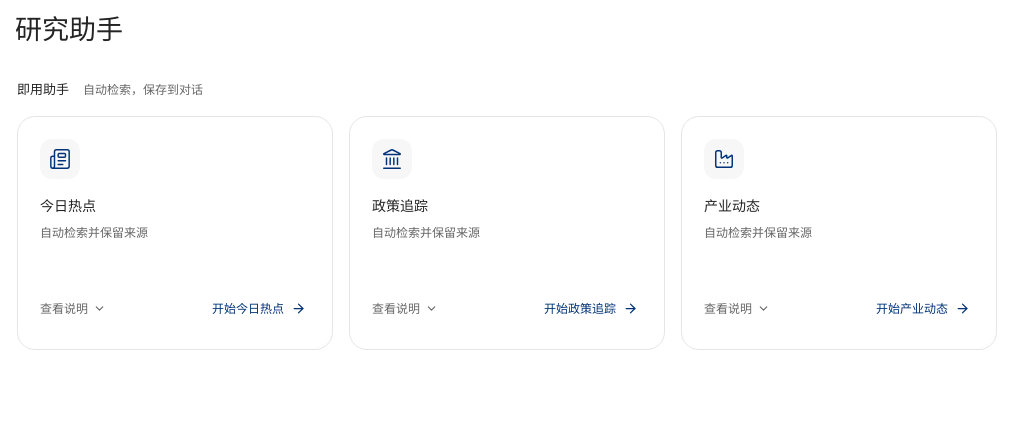
Test: keeps the server launch explanation available without starting a task
Expected: the text "点击后直接检索，结果保存在研究对话。" is not shown
Step 1. Click the 1st heading "查看说明" → (73, 308), box [40,301,106,316]
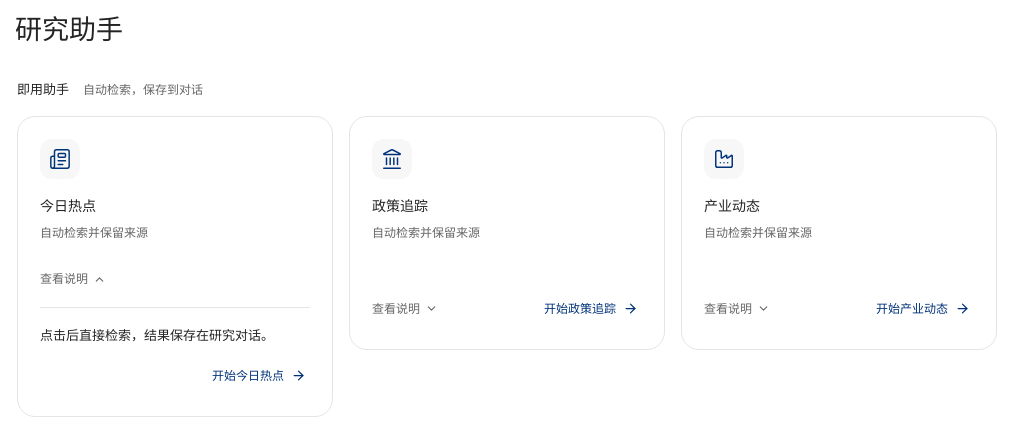
Expected: the text "点击后直接检索，结果保存在研究对话。" is shown, [40,324,310,348]
Step 2. Click the 1st heading "查看说明" → (73, 279), box [40,271,106,286]
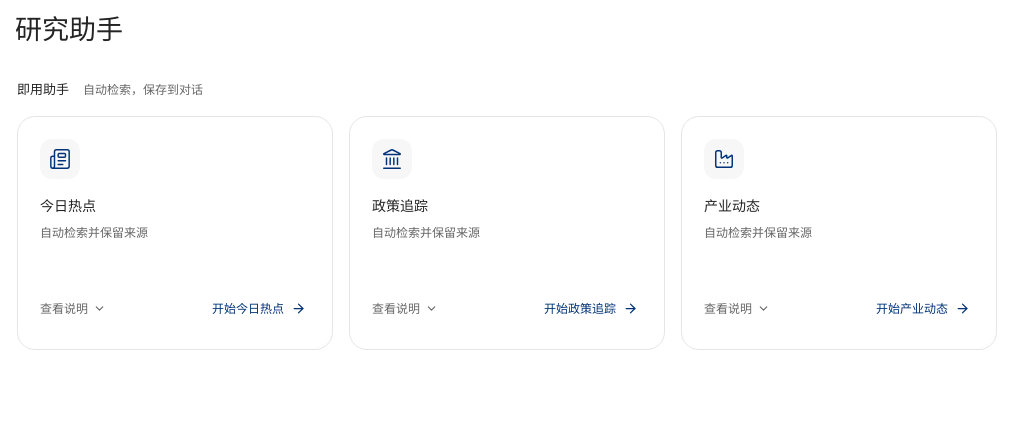
Expected: the text "点击后直接检索，结果保存在研究对话。" is gone
